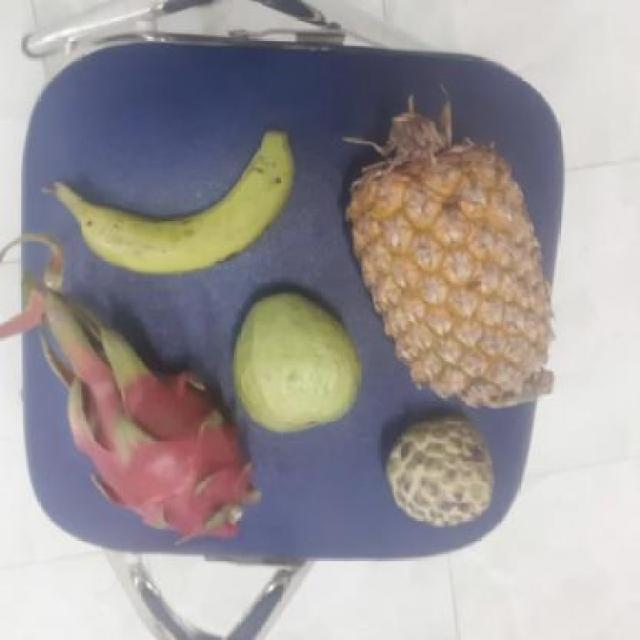banana: (47, 141, 290, 273)
dragon fruit: (72, 358, 252, 539)
guava: (227, 293, 361, 432)
pineapple: (343, 130, 546, 405)
sugar apple: (383, 419, 494, 524)
